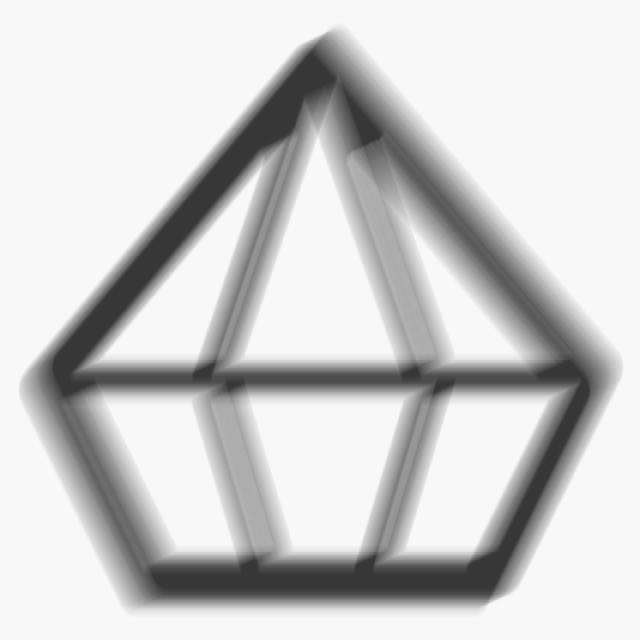diamond: (6, 12, 640, 627)
